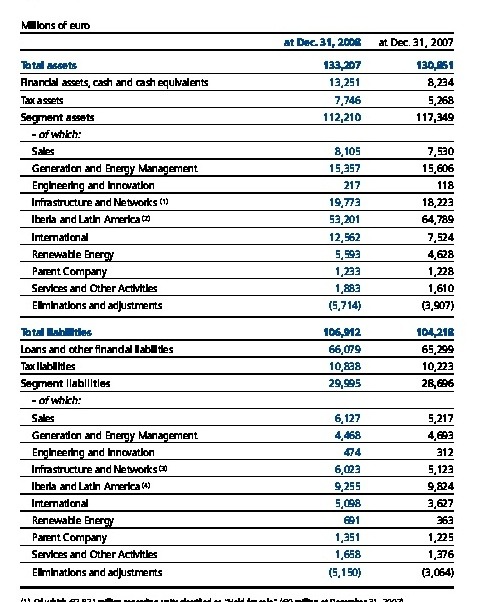table: (0, 0, 479, 602)
